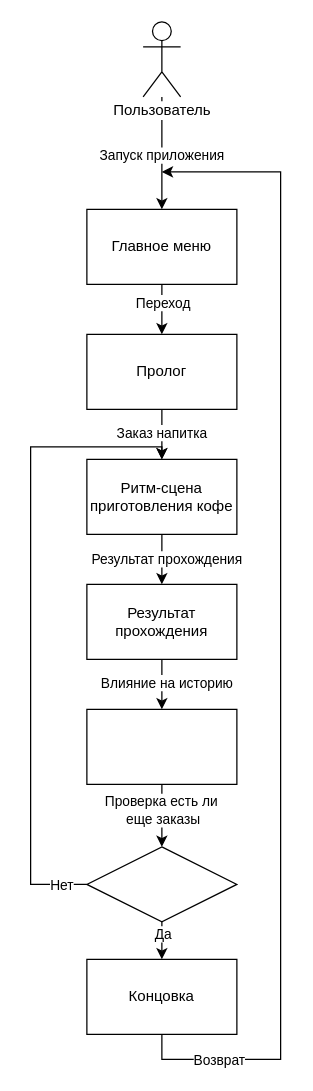
The diagram is 313 pixels wide and 1091 high, and some of its shapes have lost their labels. Each missing label, with the centre of its shape:
"Заказы закончились?" belongs at [161,884].
"Оцена результатов" belongs at [161,746].
